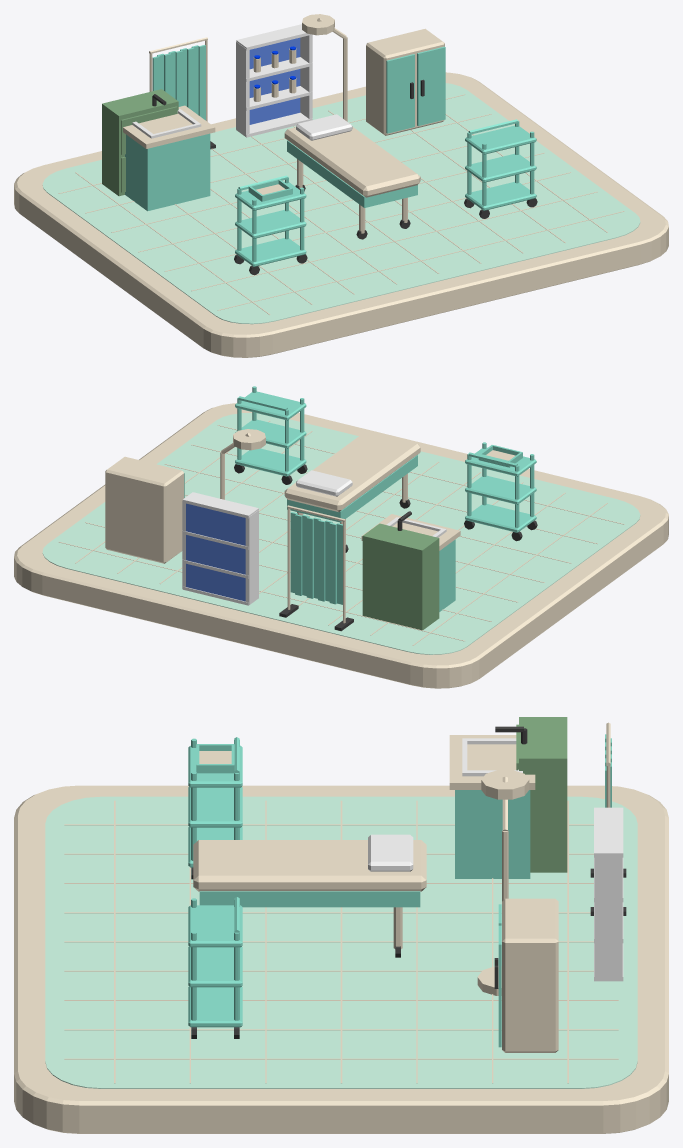
3 views of the same model, one above another, from view 1: azimuth 30°, elevation 25°; view 2: azimuth 150°, elevation 25°; view 3: azimuth 270°, elevation 25° (orthographic). The views are drawn at different scales.
Parts seen in each view (by area): view 1: COM-02 Floor Surface, COM-01 Rounded Base Direct, Cabinet, Mattress, Cabinet.001, Equipment case, Cabinet back, Door.001, Door, Counter, Clean supply cabinet side, Tray.005 (+16 smaller); view 2: COM-02 Floor Surface, COM-01 Rounded Base Direct, Equipment case, Cabinet.001, Cabinet back, Mattress, Clean supply cabinet side, Tray.001, Tray, Tray.003, Tray.005, Cabinet (+14 smaller); view 3: COM-02 Floor Surface, COM-01 Rounded Base Direct, Mattress, Equipment case, Cabinet.001, Cabinet, Clean supply cabinet side.001, Counter, Base, Tray.005, Tray.003, Tray.004 (+14 smaller).
Part boxes in pixels (x1,y1,x2,y2): COM-02 Floor Surface: (42, 83, 640, 324); COM-01 Rounded Base Direct: (14, 72, 668, 357); Cabinet: (125, 133, 210, 211); Mattress: (284, 127, 420, 197); Cabinet.001: (102, 89, 178, 196); Equipment case: (366, 28, 444, 135); Cabinet back: (249, 37, 300, 124); Door.001: (417, 46, 445, 126); Door: (386, 54, 414, 133); Counter: (123, 105, 215, 148); Clean supply cabinet side: (236, 41, 249, 136); Tray.005: (465, 125, 536, 154); COM-02 Floor Surface: (42, 413, 640, 654); COM-01 Rounded Base Direct: (14, 403, 668, 688); Equipment case: (105, 456, 184, 563); Cabinet.001: (362, 523, 439, 630); Cabinet back: (186, 503, 245, 601); Mattress: (284, 431, 420, 511); Clean supply cabinet side: (245, 510, 258, 604); Tray.001: (465, 475, 536, 504); Tray: (465, 504, 536, 532); Tray.003: (235, 448, 306, 476); Tray.005: (235, 391, 306, 420); Cabinet: (439, 539, 455, 611); COM-02 Floor Surface: (45, 796, 637, 1088); COM-01 Rounded Base Direct: (14, 785, 668, 1133); Mattress: (193, 840, 426, 891); Equipment case: (502, 898, 558, 1052); Cabinet.001: (516, 717, 567, 872); Cabinet: (455, 790, 530, 878); Clean supply cabinet side.001: (594, 855, 622, 980); Counter: (449, 735, 535, 789); Base: (199, 896, 420, 907); Tray.005: (188, 905, 242, 947); Tray.003: (188, 986, 242, 1027); Tray.004: (188, 946, 242, 987).
Bounding box in the file's own units: 6 × 1.96 × 5.2.
1 material, 1 textured.
